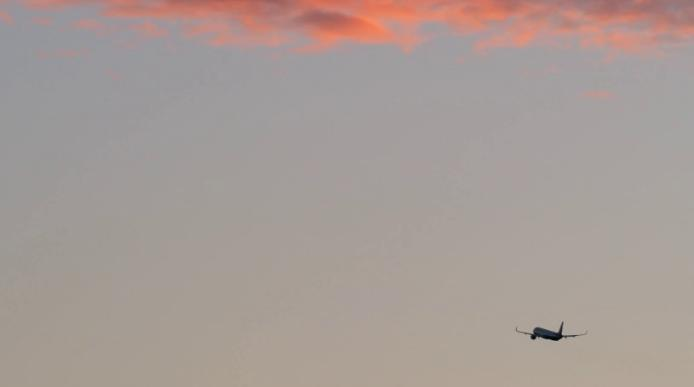aircraft: (515, 321, 588, 343)
